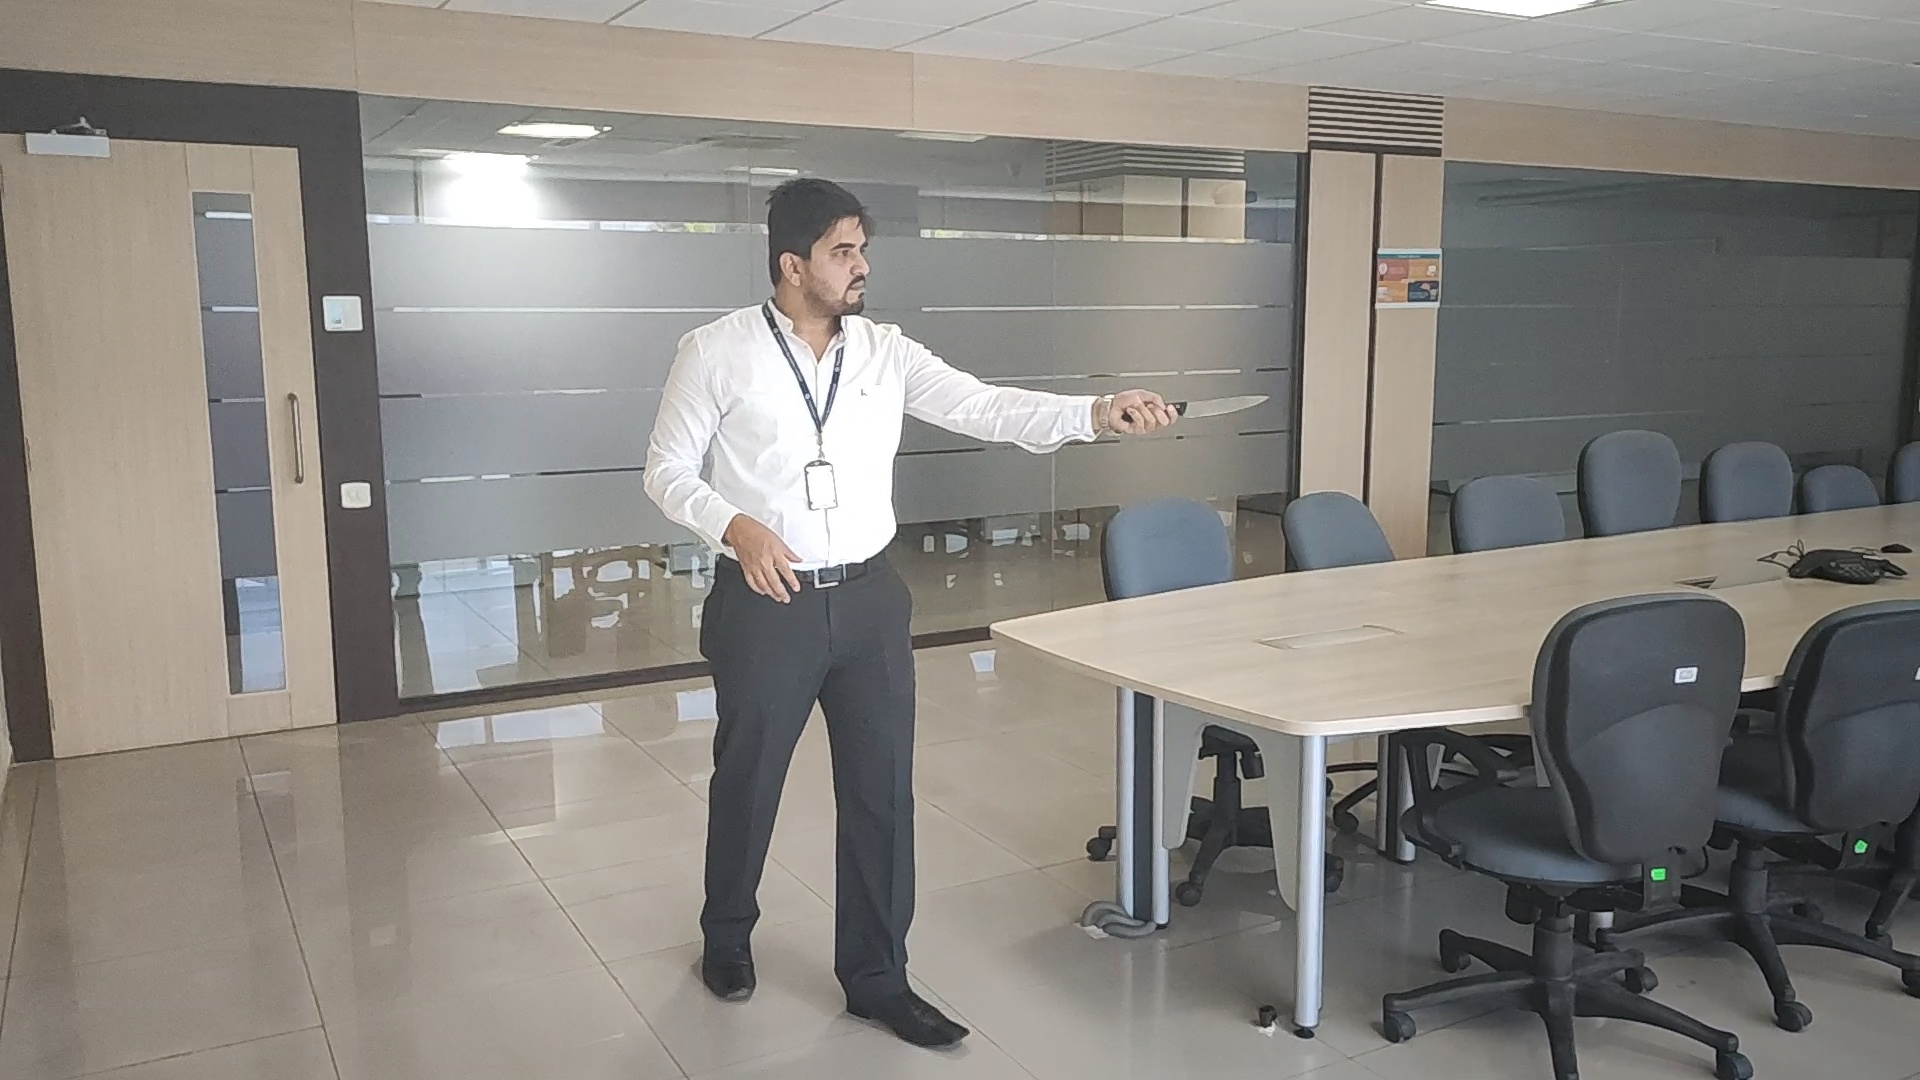knife: (1180, 393, 1271, 419)
